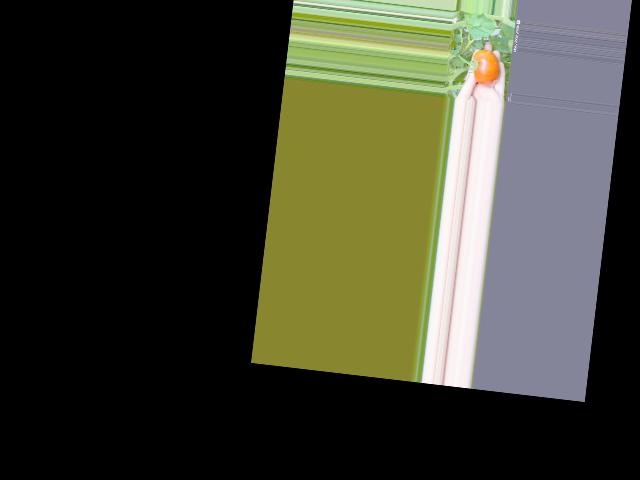tomato: (470, 49, 501, 87)
